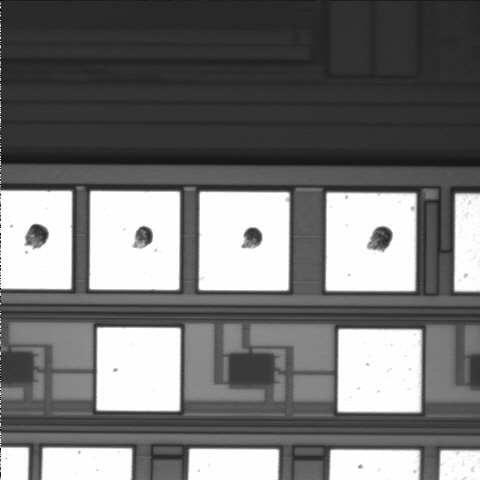pad: (90, 191, 180, 290), (199, 192, 289, 291), (326, 193, 416, 291), (97, 328, 180, 411), (338, 329, 421, 412)
